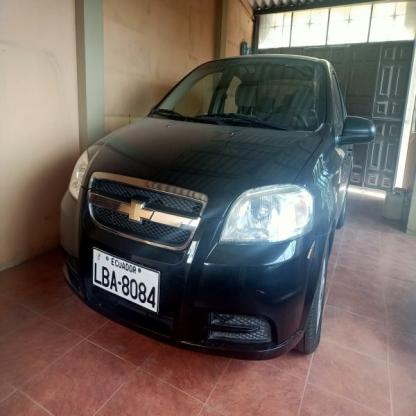Placa: (84, 245, 164, 314)
